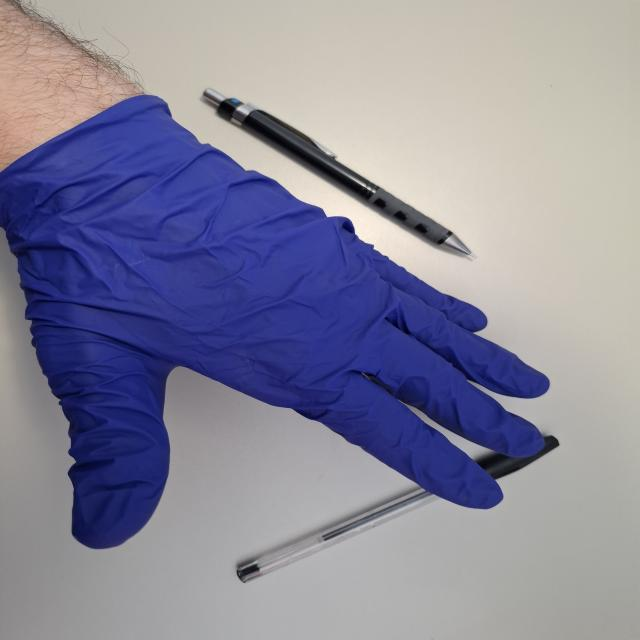glove_on: (0, 92, 552, 546)
